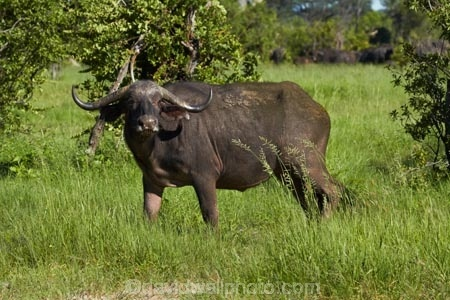buffalo: (69, 78, 342, 233)
